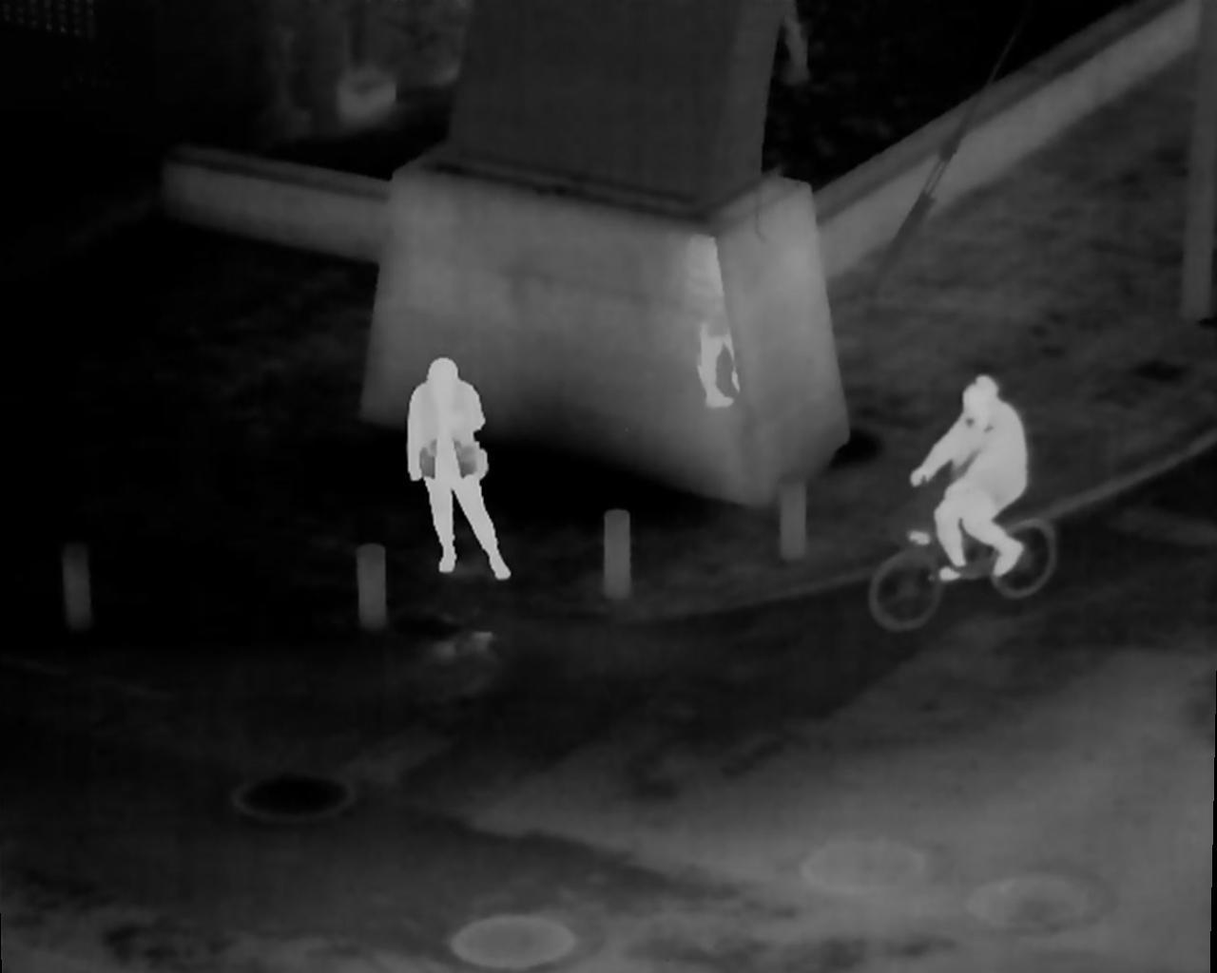person: (397, 351, 521, 581), (914, 372, 1028, 581)
